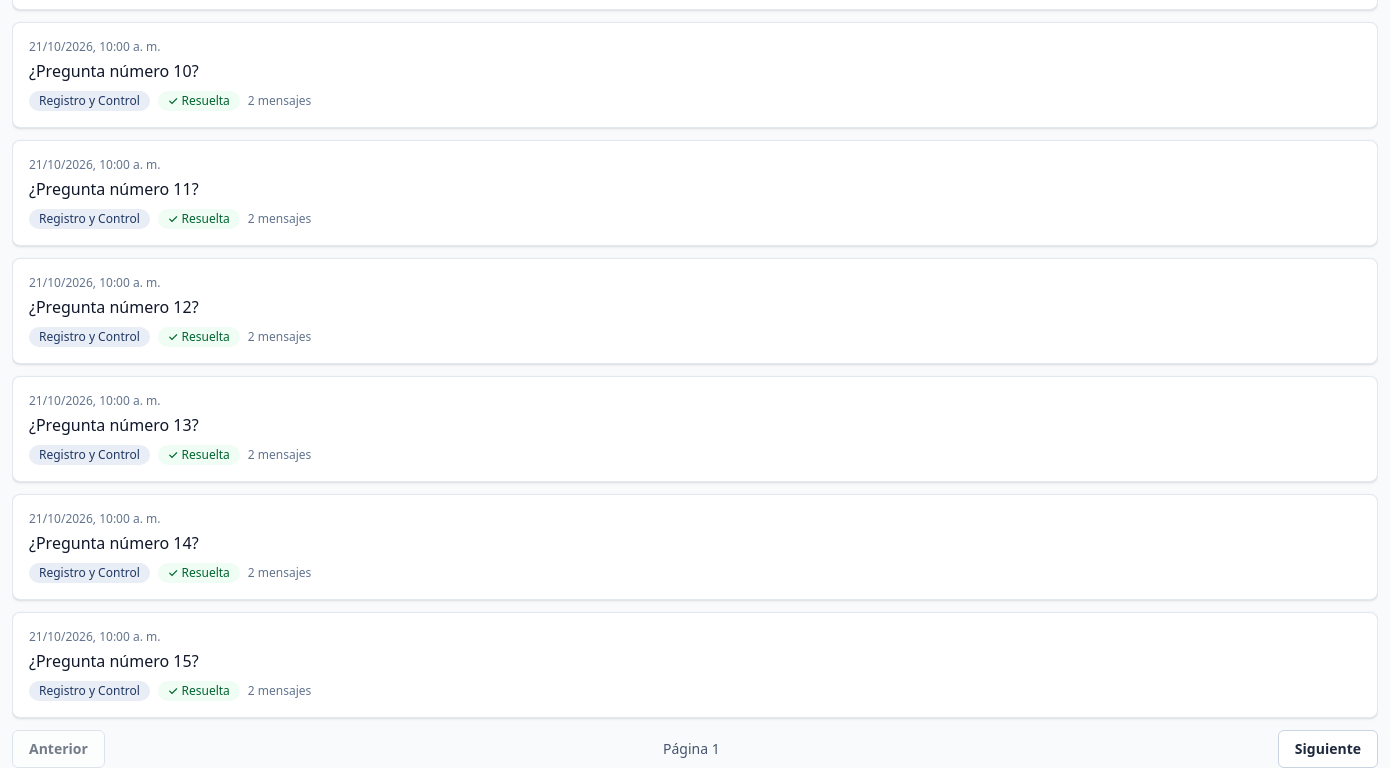
Test: historial administrativo: lista › pagina pidiendo una fila de más y vuelve a la página 1 al cambiar los filtros
The image size is (1390, 768).
(page scrolled)
expect the button "Anterior" is disabled: met, box [12, 730, 105, 767]
Click the button "Siguiente": (1328, 749) [1278, 730, 1378, 767]
(page scrolled)
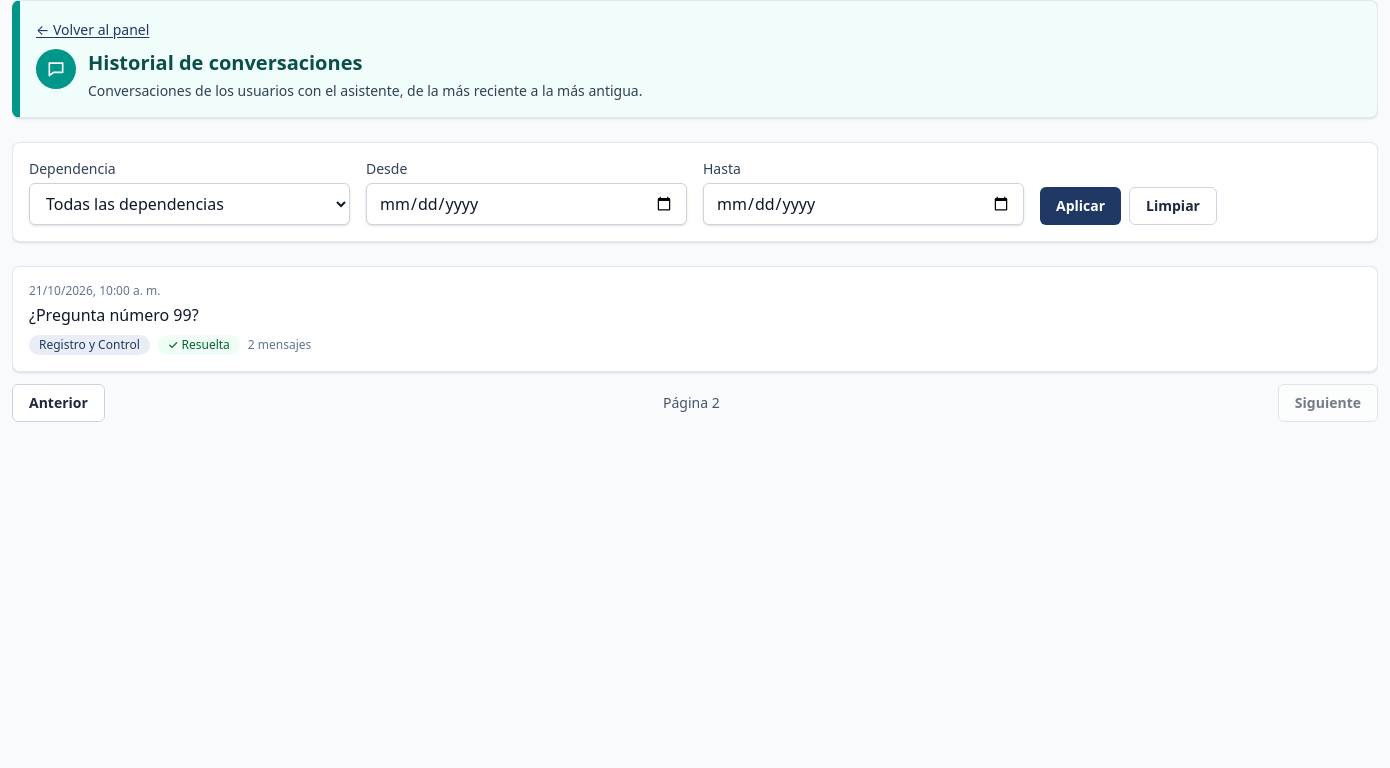
expect the text "Página 2" is shown: met, box [663, 393, 720, 413]
expect the button "Siguiente" is disabled: met, box [1278, 384, 1378, 422]
Select "Registro y Control" in the dropdown labelled "Dependencia": (190, 204) [29, 183, 350, 225]
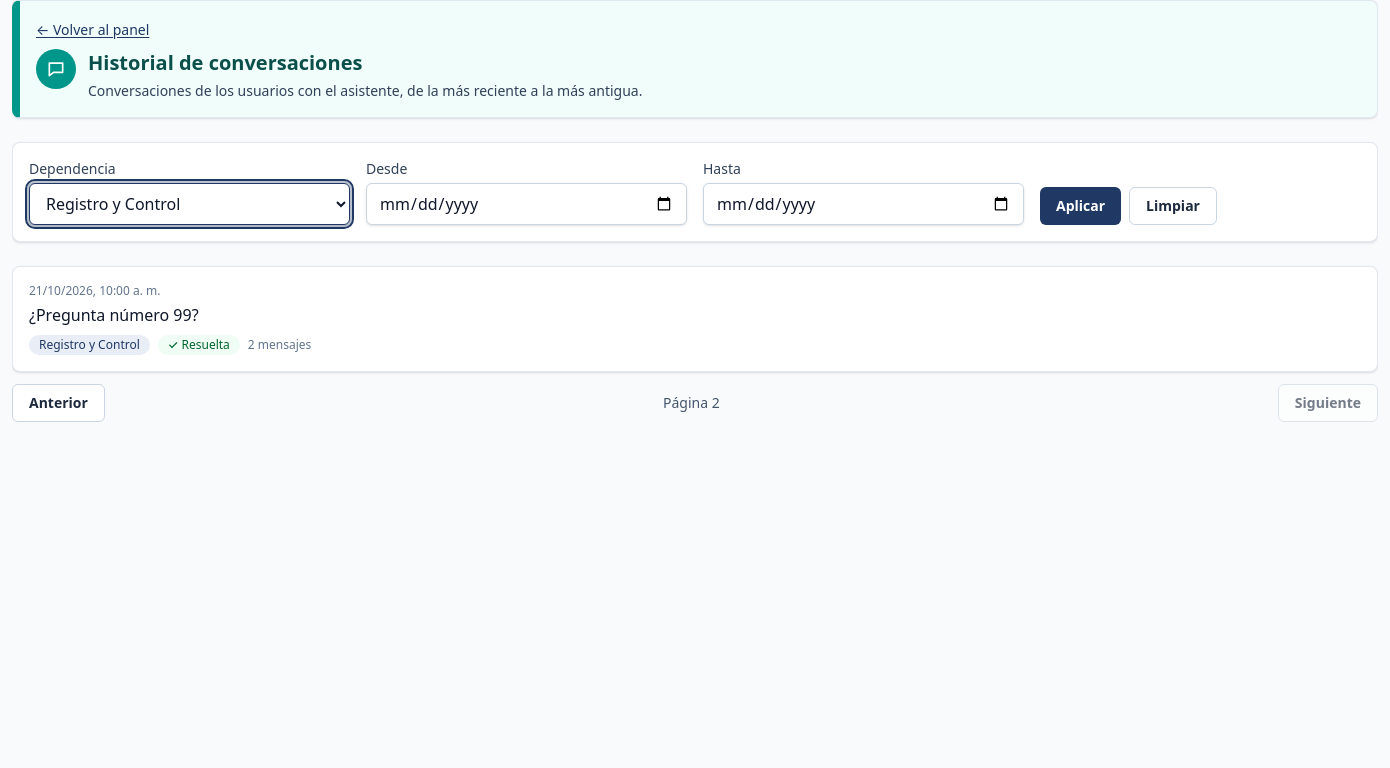
Click the button "Aplicar": (1081, 206) [1040, 187, 1121, 225]
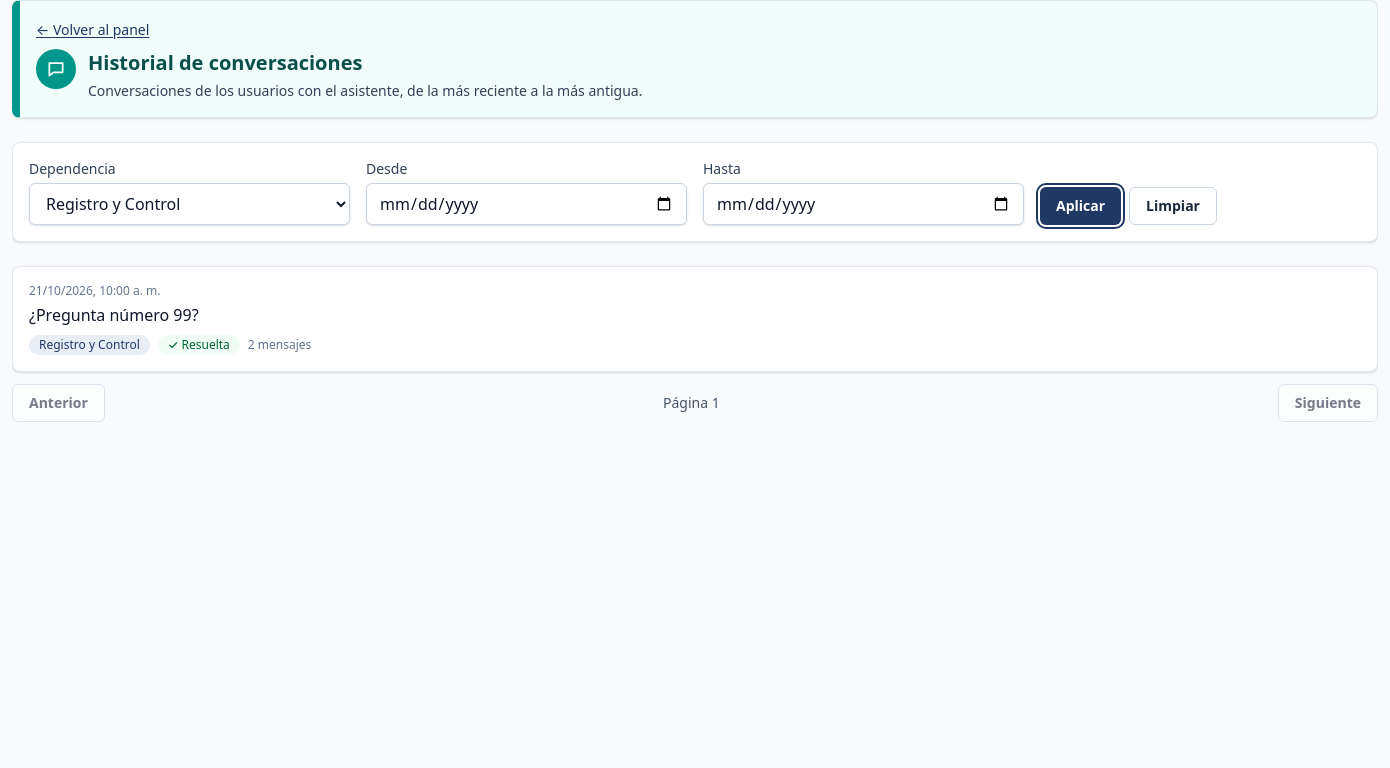
expect the text "Página 1" is shown: met, box [663, 393, 720, 413]
